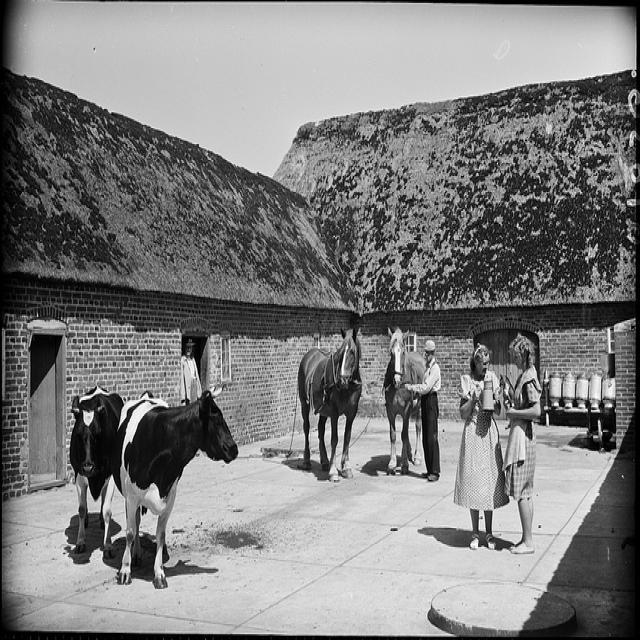cow: (95, 374, 238, 590), (68, 384, 122, 554)
